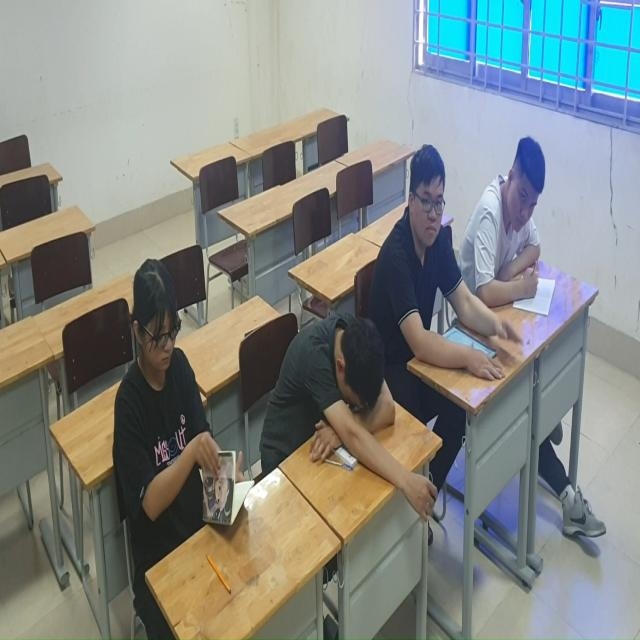read: (123, 235, 253, 572), (375, 85, 523, 371), (444, 104, 575, 348)
sleep: (267, 268, 443, 519)
